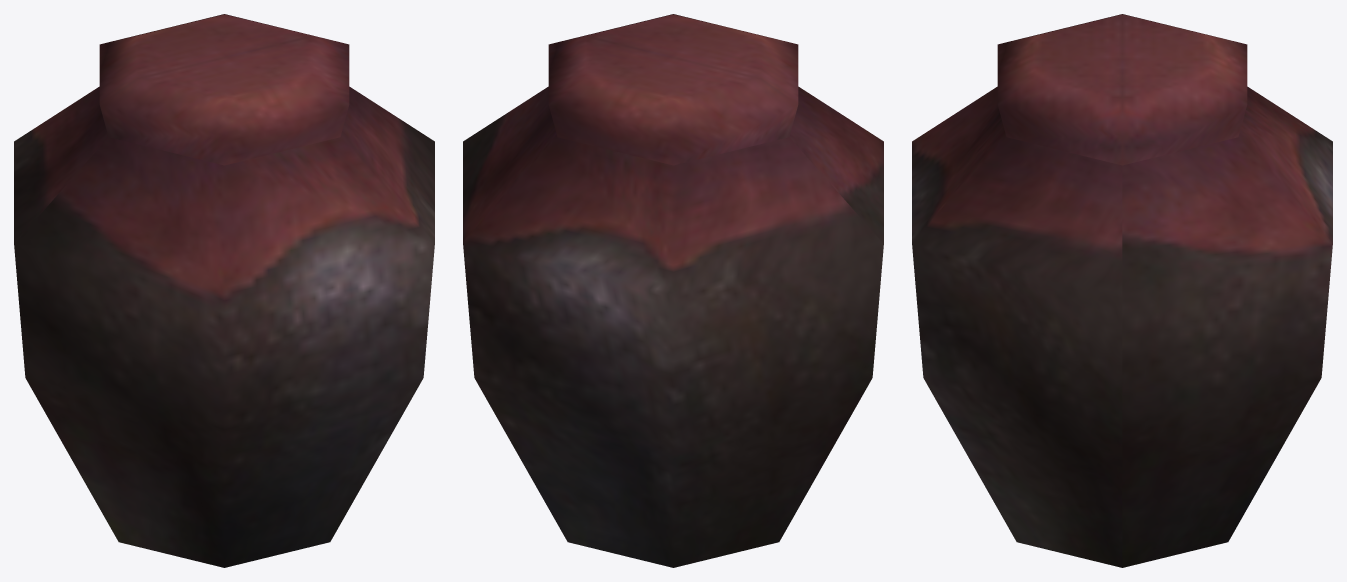
Rendered from Npc_001_jiutan_001.FBX.
The picture shows the model from 3 angles, left to right: view 1: azimuth 30°, elevation 25°; view 2: azimuth 150°, elevation 25°; view 3: azimuth 270°, elevation 25°; orthographic projection.
Visible parts, largest first — view 1: Npc_001_jiutan_001; view 2: Npc_001_jiutan_001; view 3: Npc_001_jiutan_001.
Part boxes in pixels (box(x1,y1,x2,y2)): Npc_001_jiutan_001: box(14, 14, 434, 567); Npc_001_jiutan_001: box(463, 14, 883, 567); Npc_001_jiutan_001: box(912, 14, 1332, 567).
Size of the model in its own units: 59.35 by 61.81 by 51.4.
